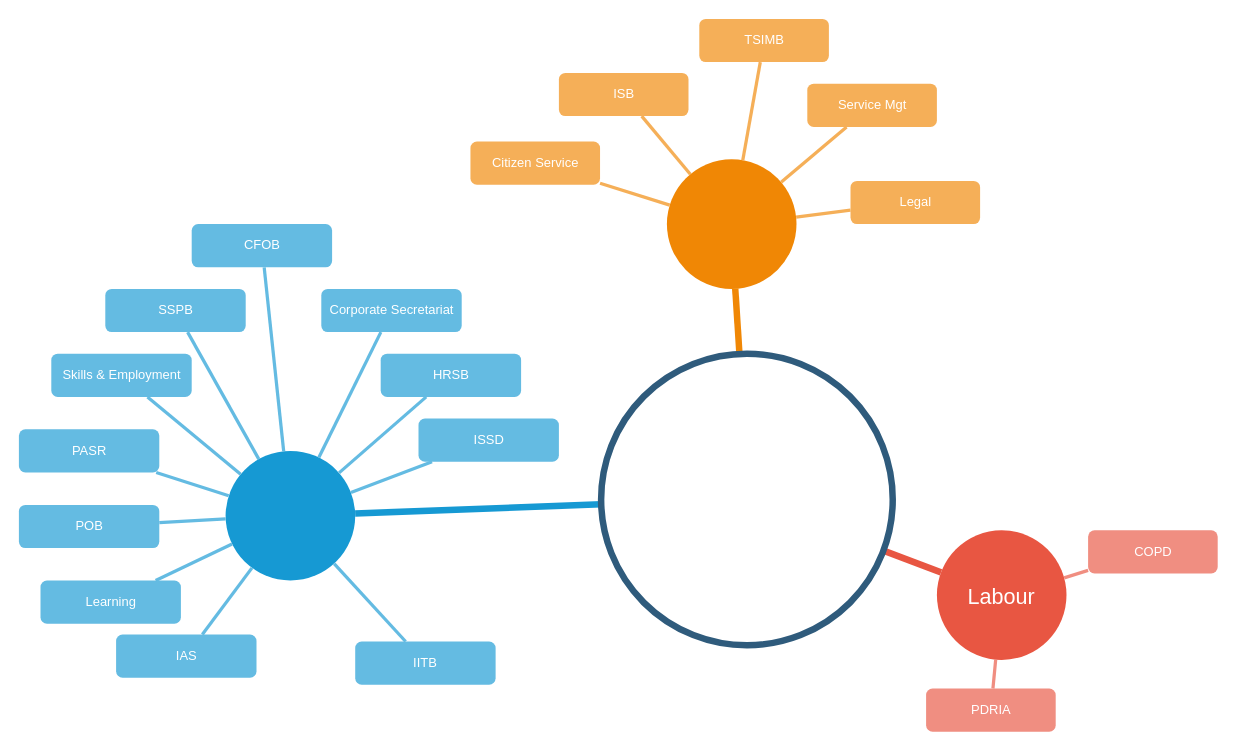
Image size: 1236x750. Some labels were removed from this diagram. The box of each missing label's shape, as (x1, y1, x2, y2) in pixels:
ESDC: (225, 450, 355, 580)
Our Department: (597, 350, 895, 648)
Service Canada: (666, 159, 796, 288)
